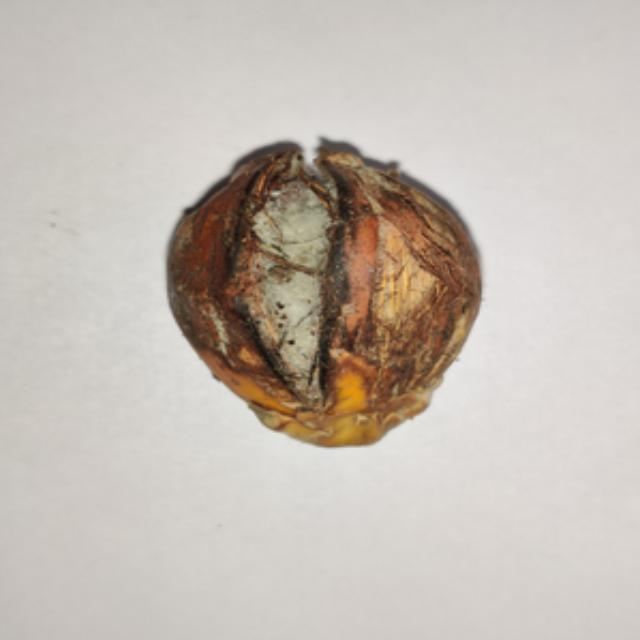damaged: (167, 139, 479, 443)
